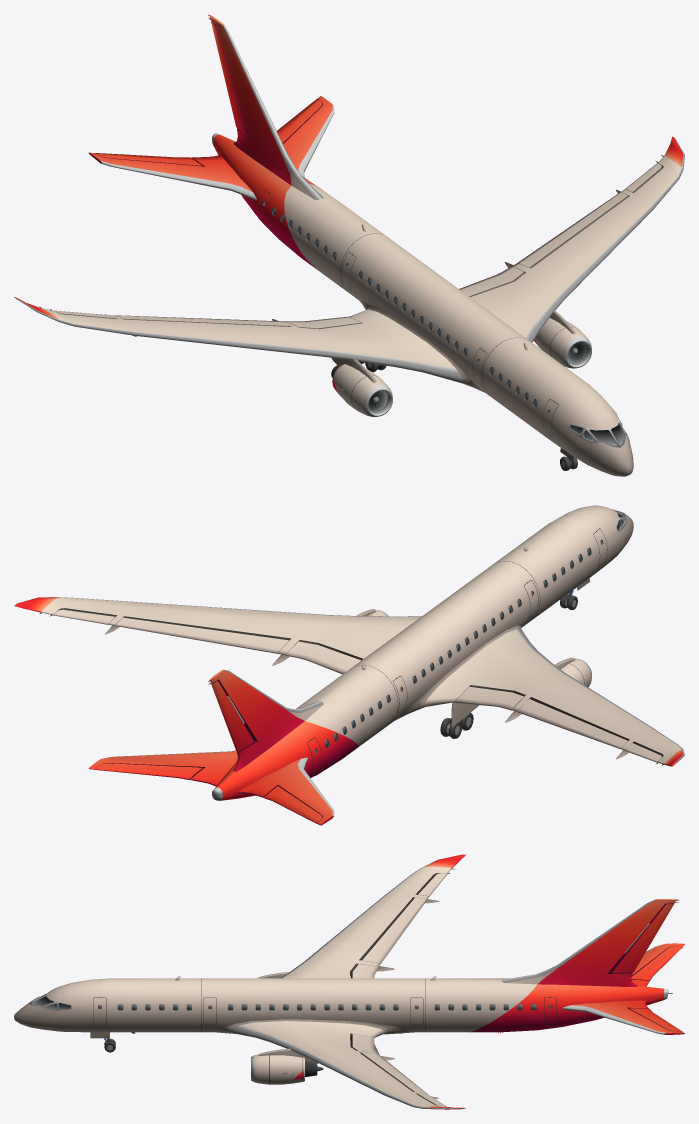
The picture shows the model from 3 angles, top to bottom: view 1: azimuth 30°, elevation 25°; view 2: azimuth 150°, elevation 25°; view 3: azimuth 270°, elevation 25°; orthographic projection. The views are drawn at different scales.
Visible parts, largest first — view 1: TP_Plane_07A_Fuselage, TP_Plane_07A_Flap_Ext.L, TP_Plane_07A_Flap_Ext.R, TP_Plane_07A_Rudder, TP_Plane_07A_Flap_Int.L; view 2: TP_Plane_07A_Fuselage, TP_Plane_07A_Flap_Ext.L, TP_Plane_07A_Flap_Ext.R, TP_Plane_07A_Flap_Int.L, TP_Plane_07A_Rudder, TP_Plane_07A_Elevator.L, TP_Plane_07A_Flap_Int.R, TP_Plane_07A_Elevator.R, TP_Plane_07A_Wheels_R.R, TP_Plane_07A_Aileron.L; view 3: TP_Plane_07A_Fuselage, TP_Plane_07A_Rudder, TP_Plane_07A_Flap_Ext.R, TP_Plane_07A_Elevator.R, TP_Plane_07A_Flap_Ext.L, TP_Plane_07A_Flap_Int.L.
Boxes of the visible parts, x1,y1,x2,y2 form: TP_Plane_07A_Fuselage: (14,14,684,476); TP_Plane_07A_Flap_Ext.L: (518,192,628,268); TP_Plane_07A_Flap_Ext.R: (115,315,289,326); TP_Plane_07A_Rudder: (211,21,249,137); TP_Plane_07A_Flap_Int.L: (459,266,524,296); TP_Plane_07A_Fuselage: (14,505,684,825); TP_Plane_07A_Flap_Ext.L: (115,617,289,653); TP_Plane_07A_Flap_Ext.R: (517,699,627,749); TP_Plane_07A_Flap_Int.L: (286,641,361,674); TP_Plane_07A_Rudder: (211,680,254,751); TP_Plane_07A_Elevator.L: (95,763,203,779); TP_Plane_07A_Flap_Int.R: (455,686,523,710); TP_Plane_07A_Elevator.R: (264,786,322,823); TP_Plane_07A_Wheels_R.R: (440,712,473,738); TP_Plane_07A_Aileron.L: (53,609,115,624); TP_Plane_07A_Fuselage: (14,854,684,1109); TP_Plane_07A_Rudder: (609,903,674,972); TP_Plane_07A_Flap_Ext.R: (361,897,427,963); TP_Plane_07A_Elevator.R: (631,946,682,981); TP_Plane_07A_Flap_Ext.L: (361,1053,426,1093); TP_Plane_07A_Flap_Int.L: (350,1034,378,1053).
Size of the model in its own units: 43.56 by 12.11 by 48.7.
2 materials, 2 textured.
